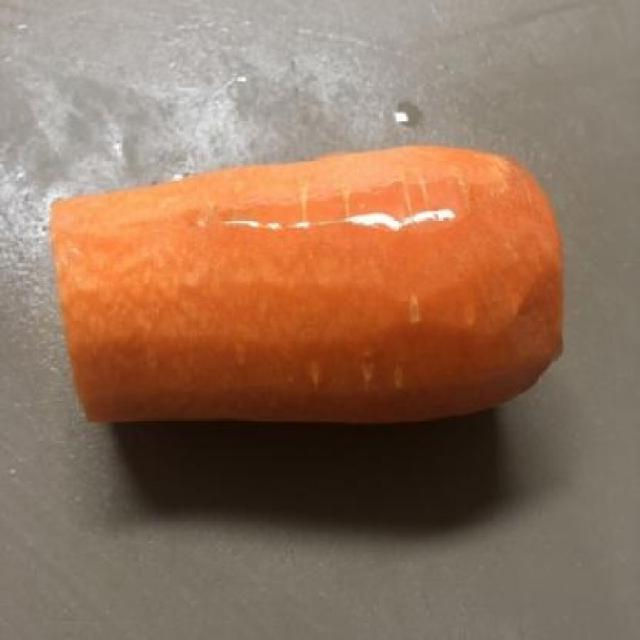carrot: (52, 143, 568, 430)
